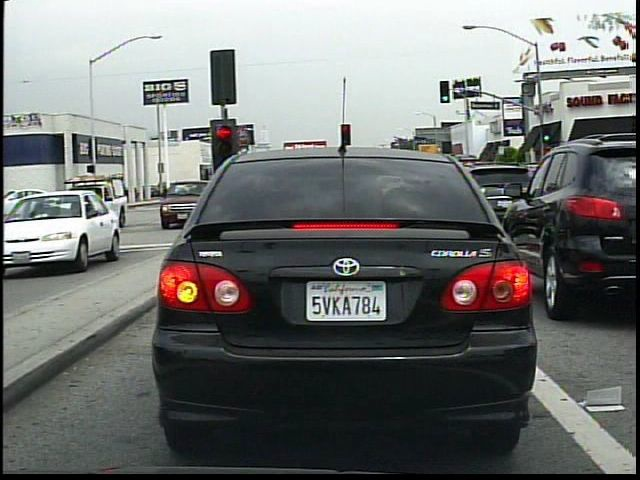person: (167, 171, 188, 199)
